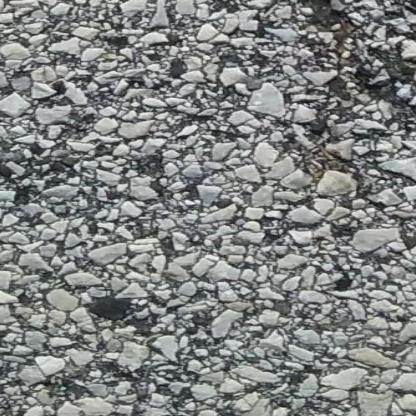Cracks: (285, 0, 416, 132), (392, 0, 416, 60)
